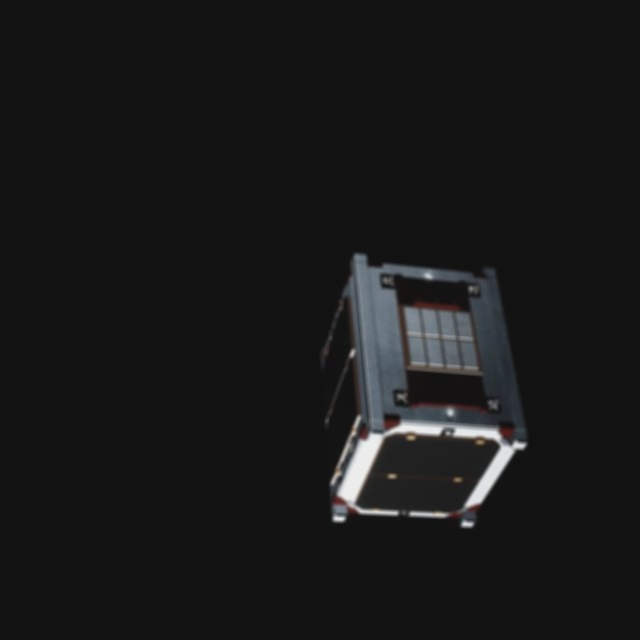medium_debris: (310, 247, 527, 536)
